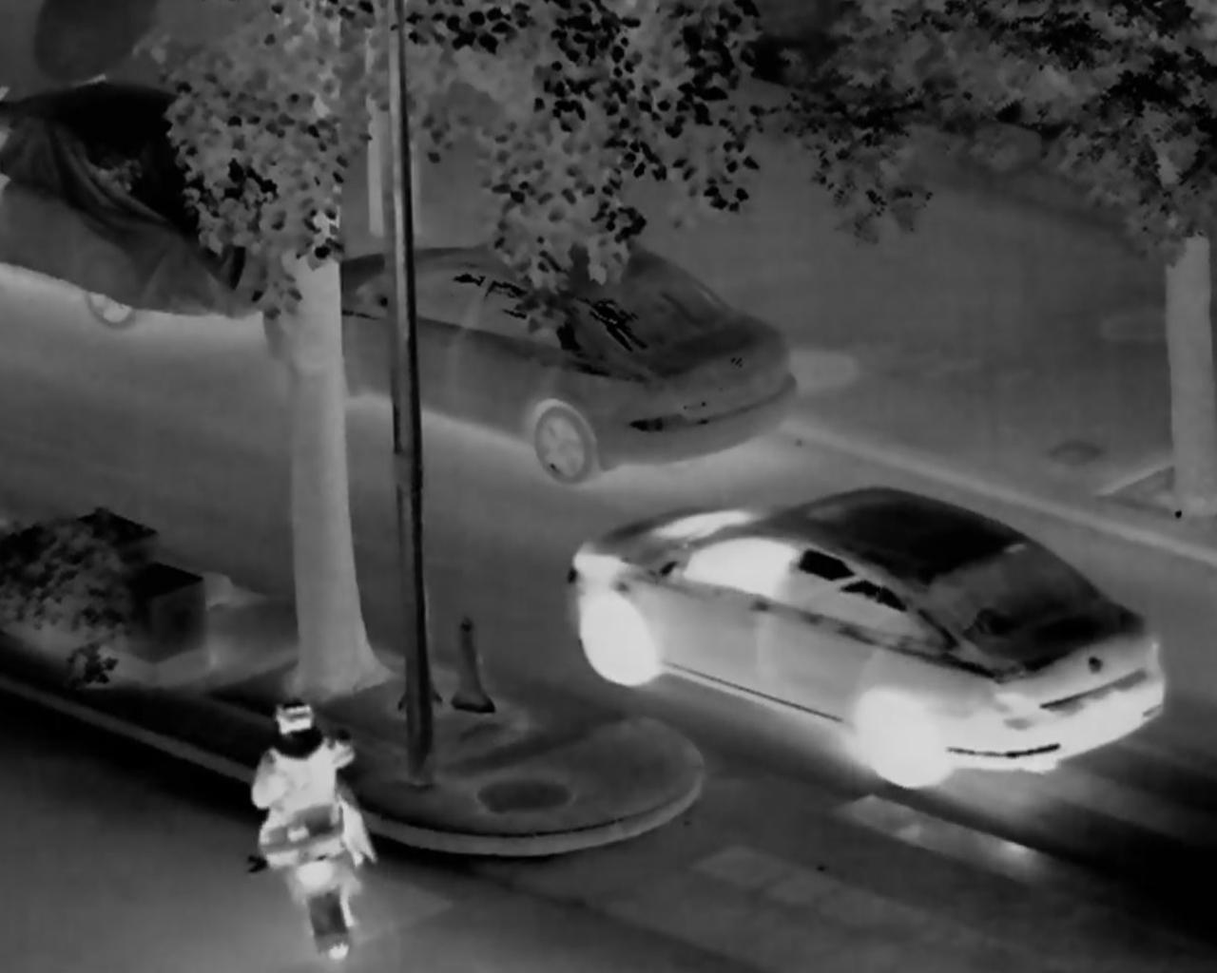person: (250, 699, 368, 922)
